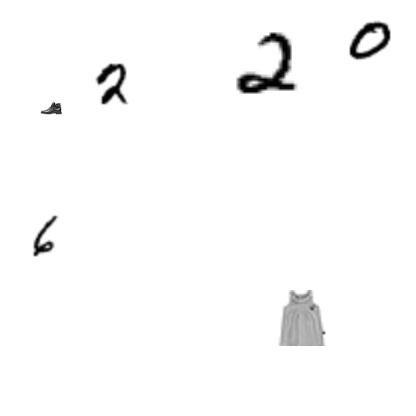0: (340, 11, 396, 67)
2: (228, 27, 312, 111), (84, 54, 140, 110)
6: (14, 210, 70, 266)
Ankle_boot: (40, 97, 62, 119)
Dress: (273, 290, 329, 346)
